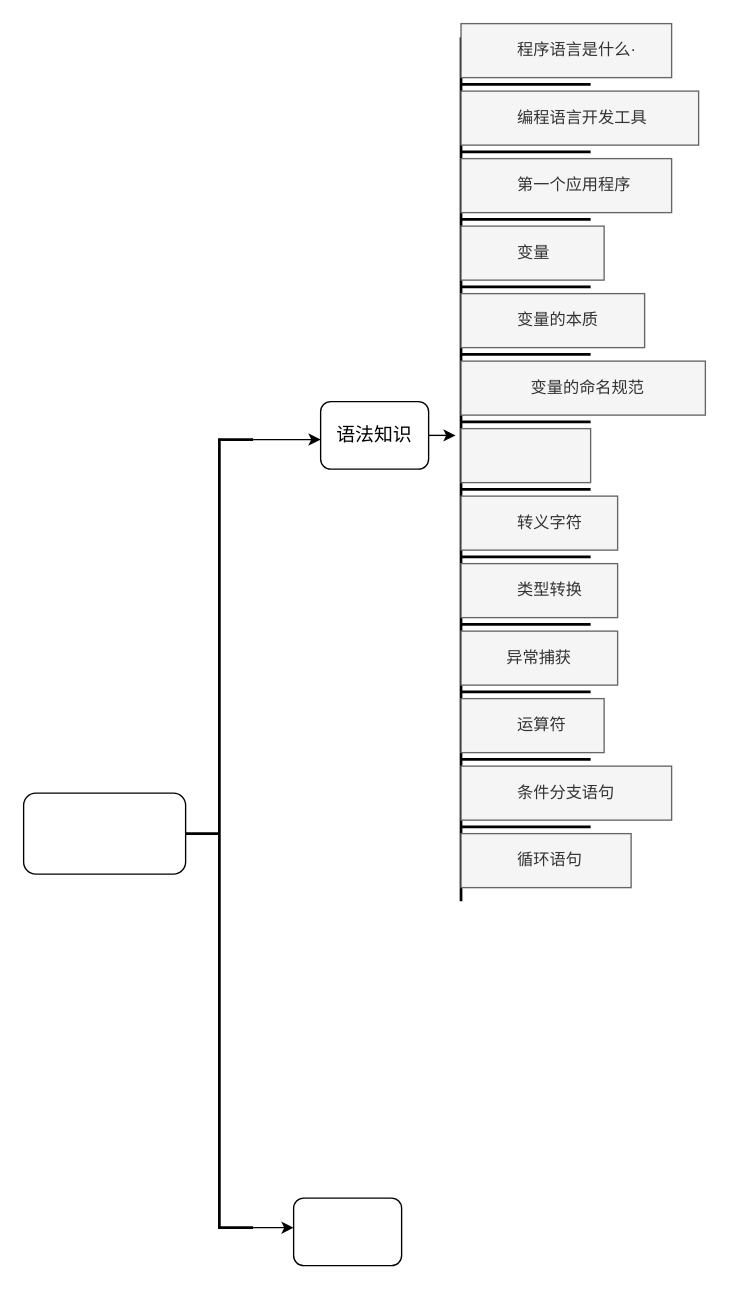
This 729x1289 diagram has some shape labels left out. Here are the shapes that lost their labels. From the top down, the centre of each, then its label:
At point 525,455: "常量".
At point 104,833: "C#入门".
At point 347,1231: "实践小项目".
